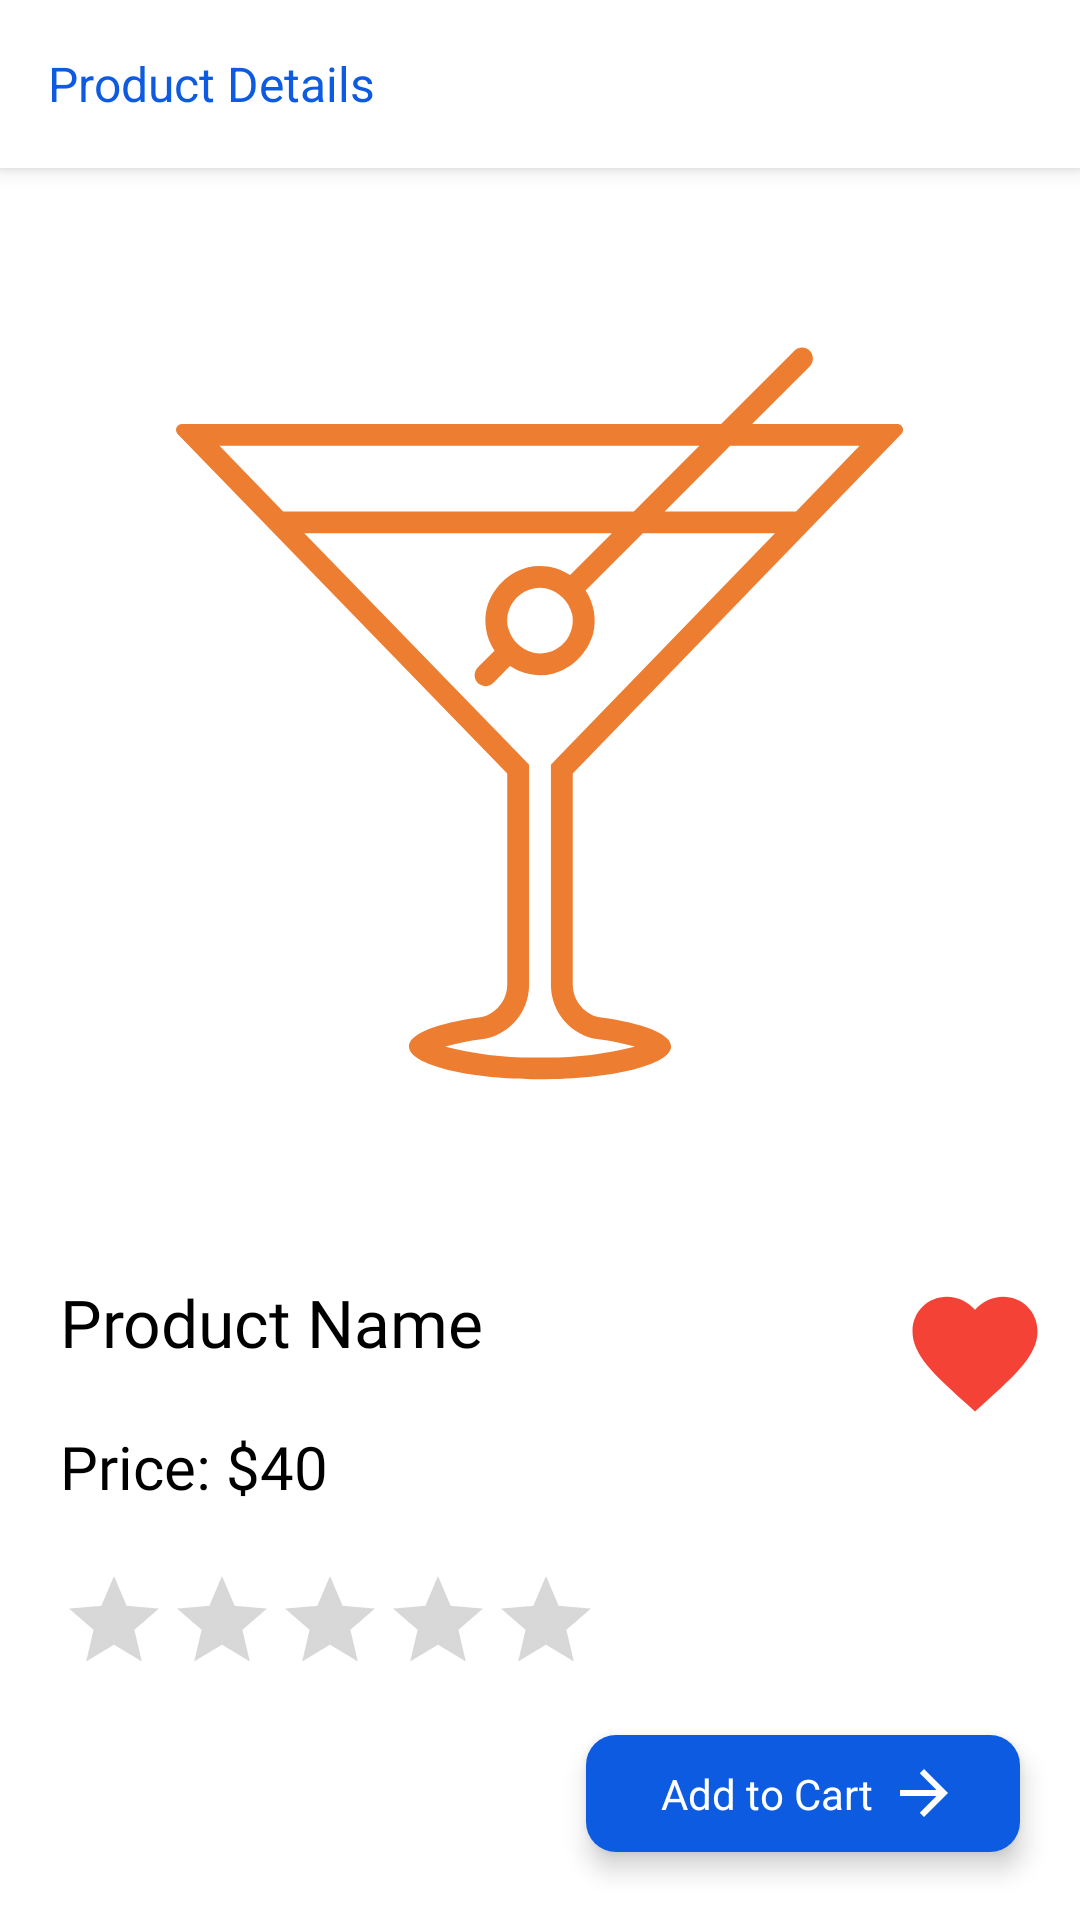

Icon click points for this 1080w x 1920h phone screenshot, format (x,y):
arrow forward: (924,1793)
favorite: (975,1354)
